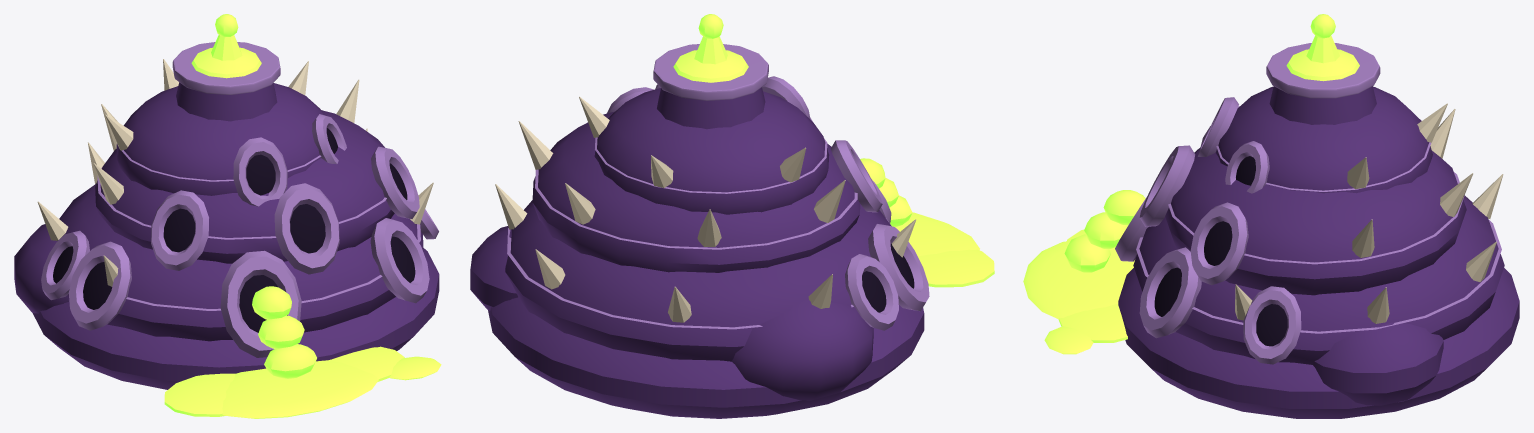
The model's file is env_hive_mound.fbx.
3 views of the same model, side by side, from view 1: azimuth 30°, elevation 25°; view 2: azimuth 150°, elevation 25°; view 3: azimuth 270°, elevation 25° (orthographic). The views are drawn at different scales.
Visible parts, largest first — view 1: Body, Belly, Slime, Dark, Trim; view 2: Body, Belly, Slime, Trim, Dark; view 3: Body, Belly, Slime, Trim, Dark.
Part boxes in pixels (x1,y1,x2,y2): Body: (14, 82, 439, 389); Belly: (41, 42, 438, 357); Slime: (164, 14, 441, 418); Dark: (53, 128, 415, 332); Trim: (37, 59, 433, 286); Body: (470, 87, 924, 418); Belly: (507, 44, 929, 330); Slime: (673, 14, 994, 287); Trim: (495, 96, 916, 322); Dark: (862, 243, 914, 312); Body: (1118, 86, 1519, 418); Belly: (1115, 43, 1501, 364); Slime: (1023, 14, 1359, 354); Trim: (1235, 103, 1503, 323); Dark: (1154, 156, 1287, 346).
Bounding box in the file's own units: 10.53 × 9.2 × 11.75.
